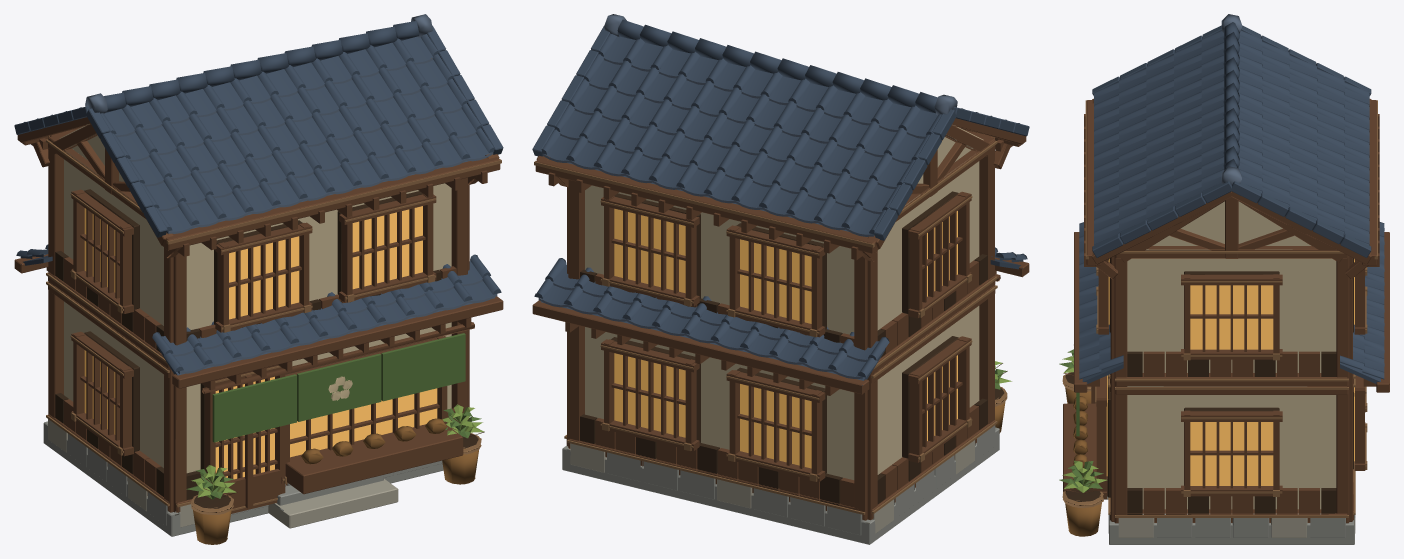
The picture shows the model from 3 angles, left to right: view 1: azimuth 30°, elevation 25°; view 2: azimuth 150°, elevation 25°; view 3: azimuth 270°, elevation 25°; orthographic projection. The views are drawn at different scales.
Visible parts, largest first — view 1: compact_shop_2_geometry, compact_shop_2_geometry ceramic; view 2: compact_shop_2_geometry, compact_shop_2_geometry ceramic; view 3: compact_shop_2_geometry, compact_shop_2_geometry ceramic.
Part boxes in pixels (x1=…): compact_shop_2_geometry: x1=14, y1=58, x2=503, y2=544; compact_shop_2_geometry ceramic: x1=14, y1=14, x2=503, y2=380; compact_shop_2_geometry: x1=532, y1=118, x2=1029, y2=544; compact_shop_2_geometry ceramic: x1=532, y1=14, x2=1029, y2=385; compact_shop_2_geometry: x1=1059, y1=98, x2=1389, y2=544; compact_shop_2_geometry ceramic: x1=1079, y1=14, x2=1384, y2=384.
Bounding box in the file's own units: 0.99 × 1.09 × 0.8597.
